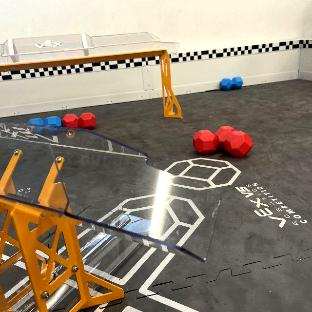Med_goal: (0, 120, 220, 261)
V5_BLUE: (28, 116, 60, 126)
V5_RED: (193, 126, 252, 158), (62, 112, 97, 130)
